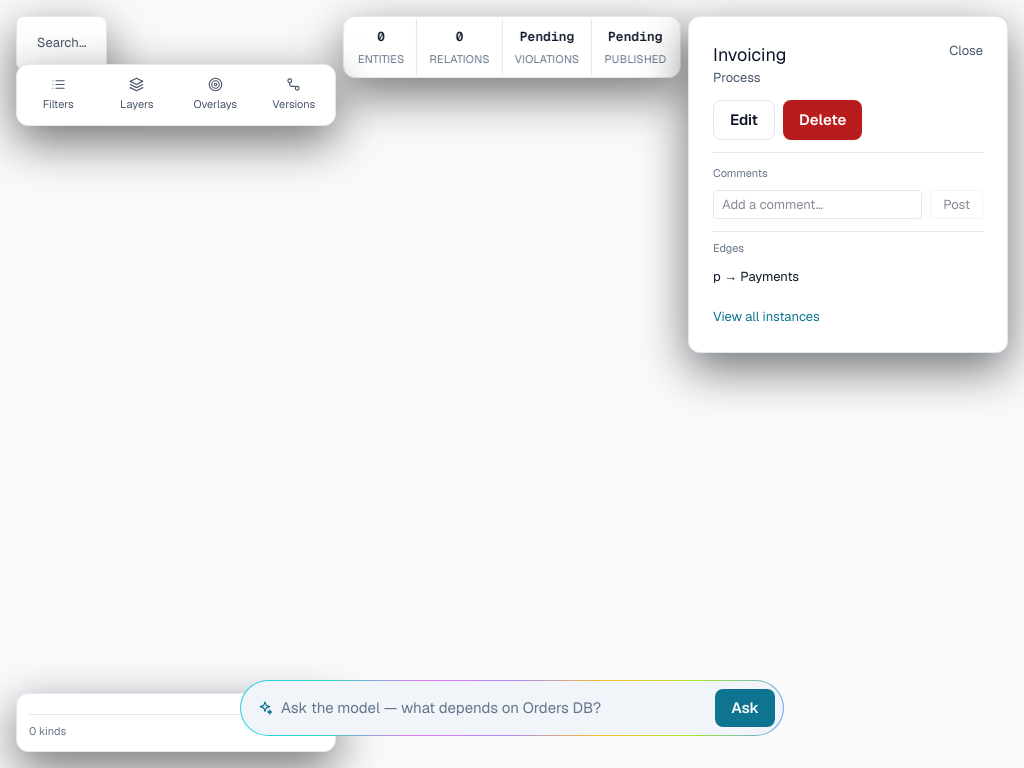
it: ExplorerInteractions -- TASK-024 property edit + delete › leaves the canvas untouched and shows a failure toast when the delete request times out
Check: the text "Invoicing" is shown, box [713,41,786,68]
Click the button "Delete".
click(823, 120)  # box [783,100,862,140]
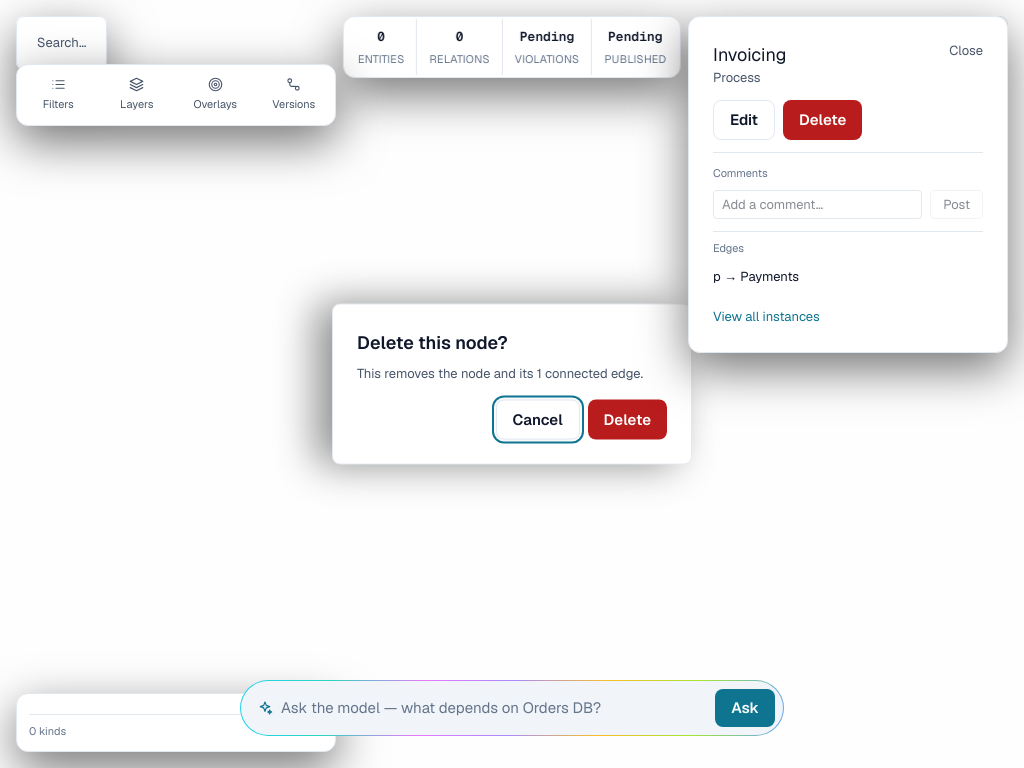
Click the button "Delete".
click(627, 419)  # box [588,399,667,440]
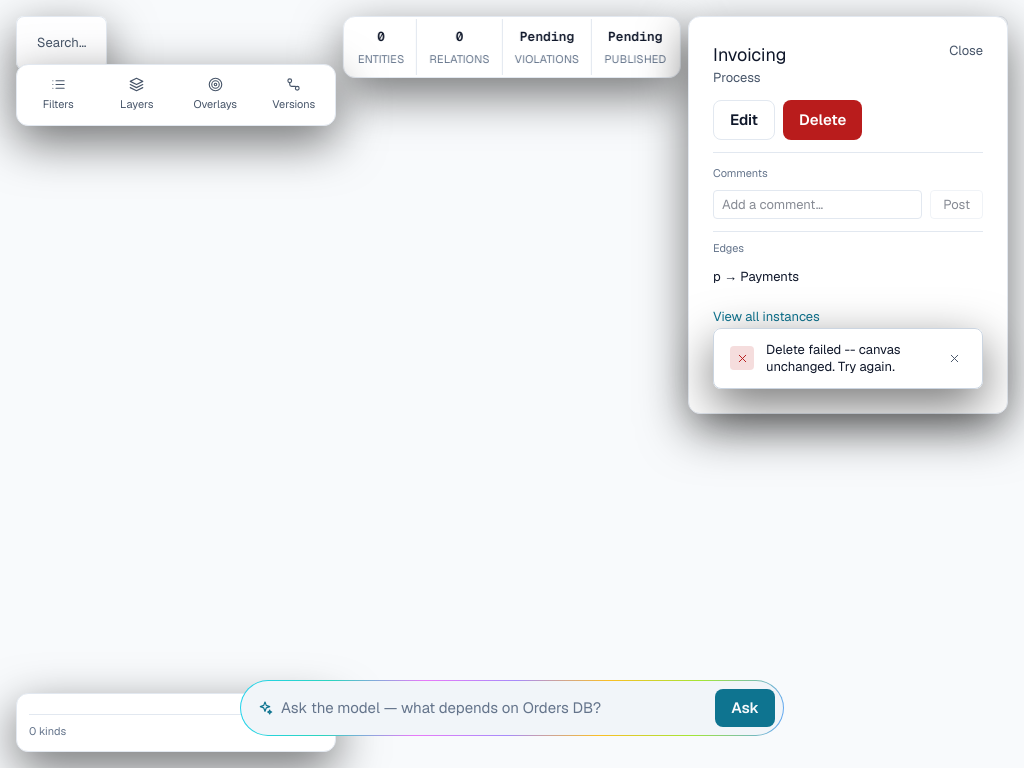
Check: the text "Delete failed -- canvas unchanged. Try again." is shown, box [766,340,901,375]
